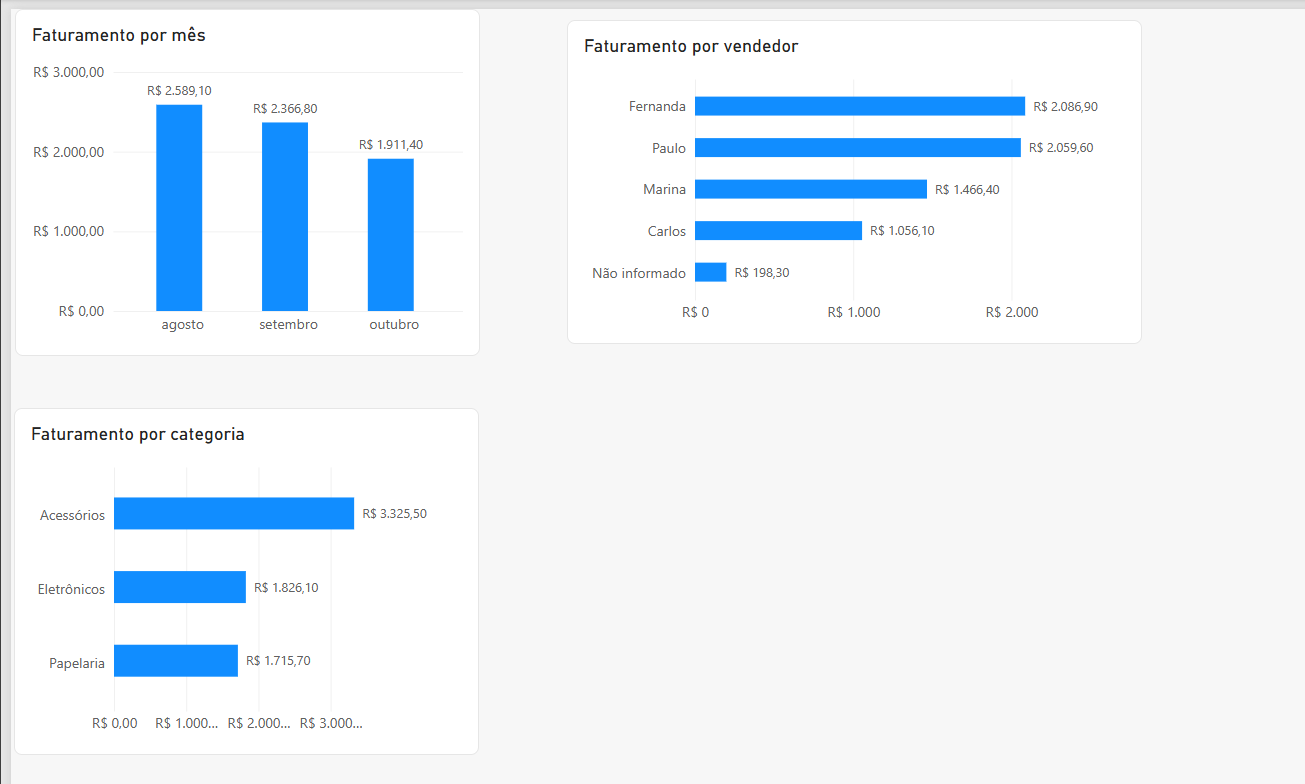

This screenshot's page, from the dashboard's own definition file:
{"tool":"powerbi","page":{"name":"Página 1","canvas":[1920,1080],"ordinal":0},"visuals":[{"type":"columnChart","title":"Faturamento por mês","fields":{"Category":["vendas.data_venda.Variação.Hierarquia de datas.Mês"],"Y":["Sum(vendas.Faturamento)"]},"box":[3.6,0.2,465,347],"z":2},{"type":"barChart","title":"Faturamento por categoria","fields":{"Category":["vendas.categoria"],"Y":["Sum(vendas.Faturamento)"]},"box":[2.5,398.8,465,347],"z":3},{"type":"barChart","title":"Faturamento por vendedor","fields":{"Category":["vendas.vendedor"],"Y":["Sum(vendas.Faturamento)"]},"box":[556.2,11.2,575,323.8],"z":4}]}

Visuals, with their boxes on the page's 1920x1080 design canvas (x1, y1, x2, y2). These are canvas units, not pixel positions in the 1305x784 screenshot, which may show the page scaled, cropped or inside an application window:
"Faturamento por mês" columnChart: crop(4, 0, 469, 347)
"Faturamento por categoria" barChart: crop(2, 399, 468, 746)
"Faturamento por vendedor" barChart: crop(556, 11, 1131, 335)
